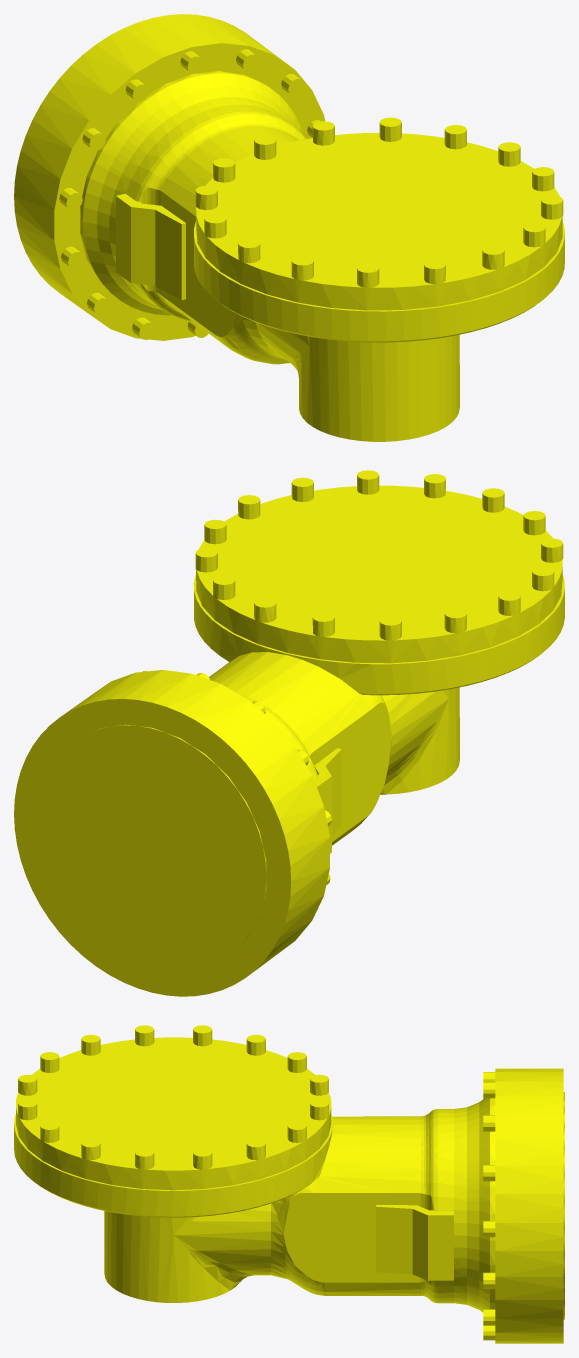
The picture shows the model from 3 angles, top to bottom: view 1: azimuth 30°, elevation 25°; view 2: azimuth 150°, elevation 25°; view 3: azimuth 270°, elevation 25°; orthographic projection. The views are drawn at different scales.
Parts seen in each view (by area): view 1: node; view 2: node; view 3: node.
Part boxes in pixels (x1=…): node: x1=14, y1=14, x2=564, y2=441; node: x1=14, y1=470, x2=564, y2=996; node: x1=14, y1=1025, x2=564, y2=1343.
Bounding box in the file's own units: 221 × 190 × 381.
